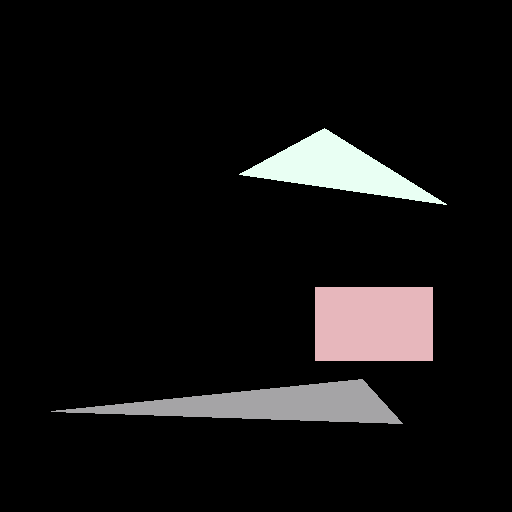rectangle: (315, 287, 432, 360)
triangle: (239, 128, 446, 204), (51, 379, 402, 423)
